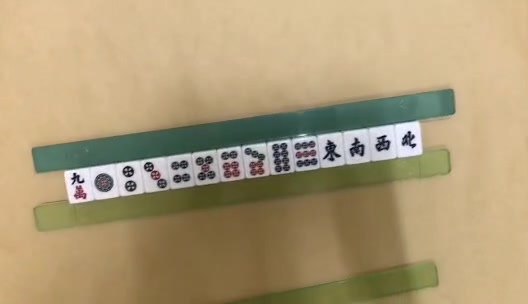1p: (94, 172, 113, 191)
1z: (323, 140, 342, 163)
2p: (122, 166, 136, 193)
2z: (349, 137, 365, 157)
3p: (143, 160, 166, 191)
3z: (376, 134, 392, 152)
4p: (170, 160, 190, 183)
4z: (402, 130, 417, 149)
5p: (197, 155, 216, 182)
6p: (222, 151, 241, 178)
7p: (244, 147, 266, 177)
8p: (271, 142, 290, 172)
9m: (70, 172, 89, 200)
9p: (295, 142, 317, 168)
